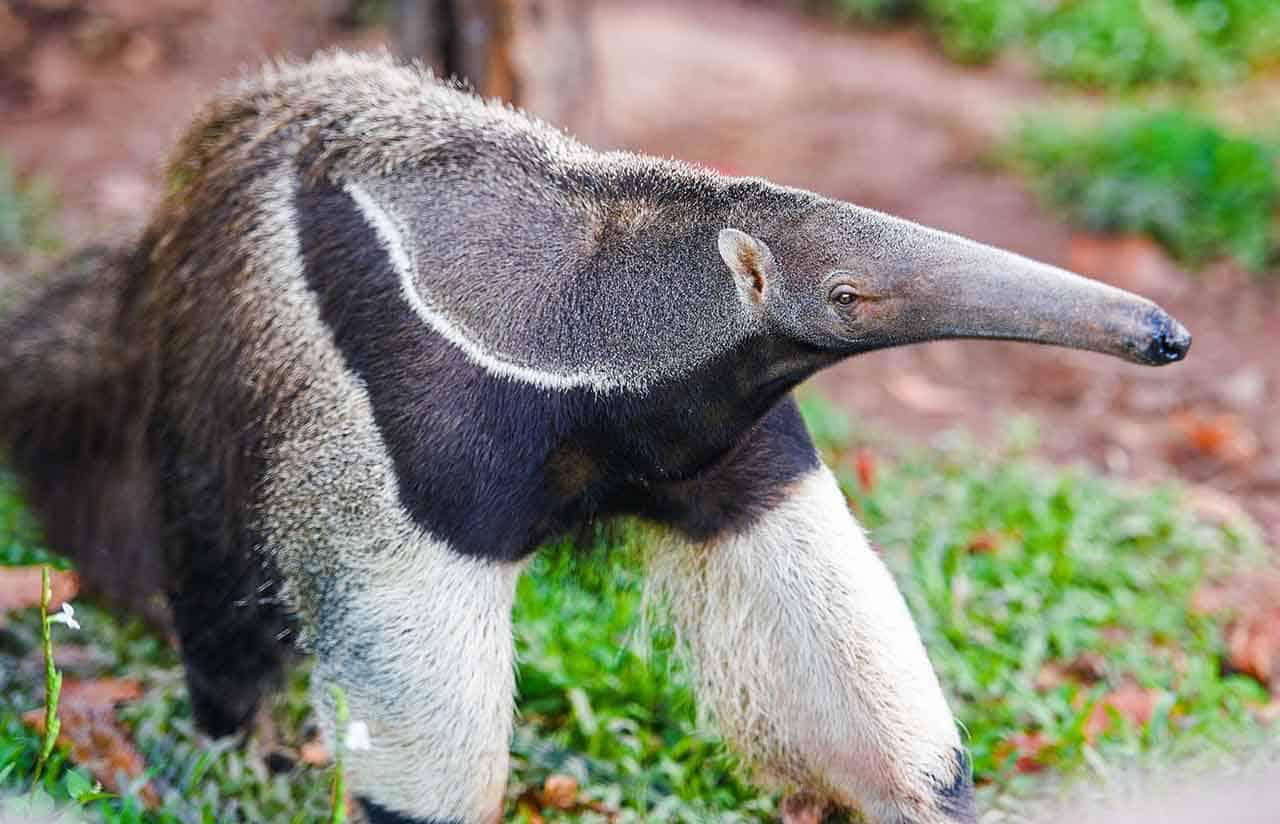TamanduaBandeira: (19, 46, 1201, 812)
